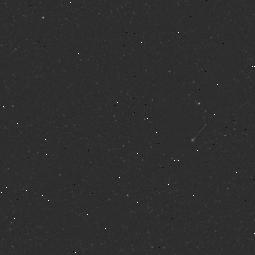earth_observation_sat_1: (154, 78, 216, 144)
